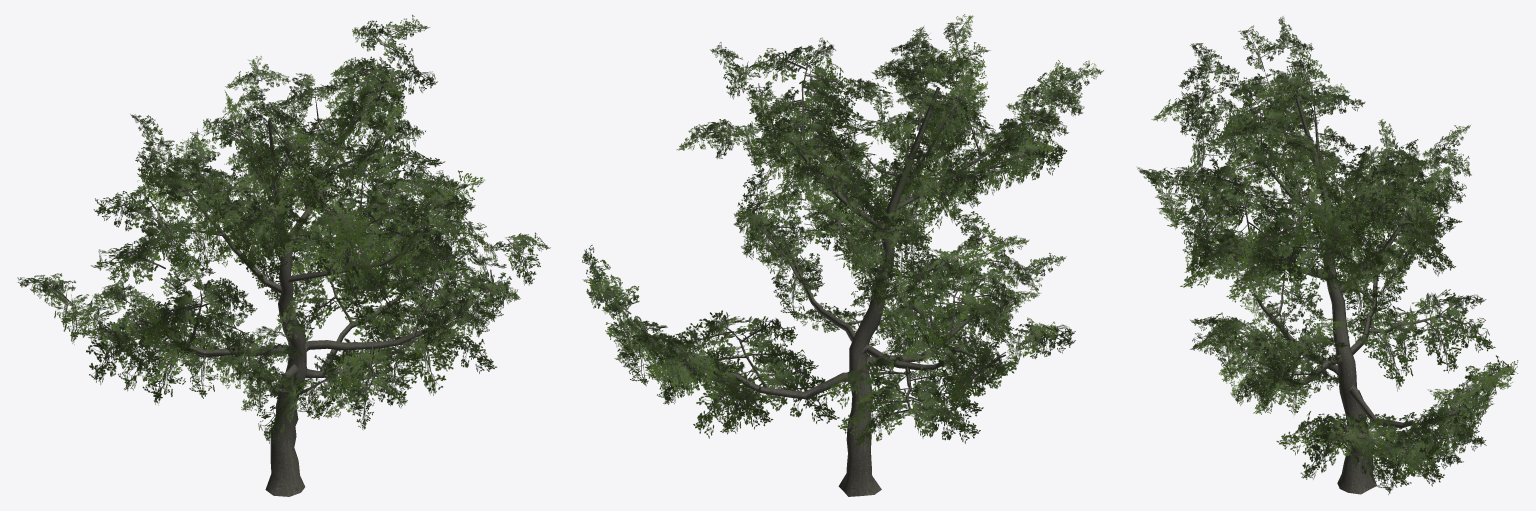
Rendered from oak2.glb.
The picture shows the model from 3 angles, left to right: view 1: azimuth 30°, elevation 25°; view 2: azimuth 150°, elevation 25°; view 3: azimuth 270°, elevation 25°; orthographic projection. The views are drawn at different scales.
Visible parts, largest first — view 1: leaves, bark; view 2: leaves, bark; view 3: leaves, bark.
Part boxes in pixels (x1,y1,x2,y2): leaves: (17,14,550,444); bark: (130,84,471,496); leaves: (582,14,1103,448); bark: (665,63,1035,496); leaves: (1137,16,1518,494); bark: (1193,71,1481,494).
Bounding box in the file's own units: 20.51 × 19.46 × 15.65.
2 materials, 2 textured.
